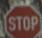Stop sign: (0, 0, 41, 37)
